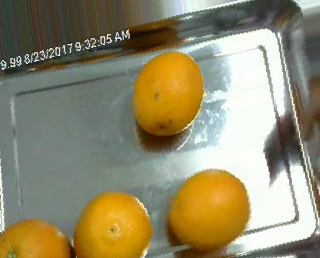Orange: (169, 167, 252, 251), (131, 51, 204, 135), (73, 190, 153, 258)
